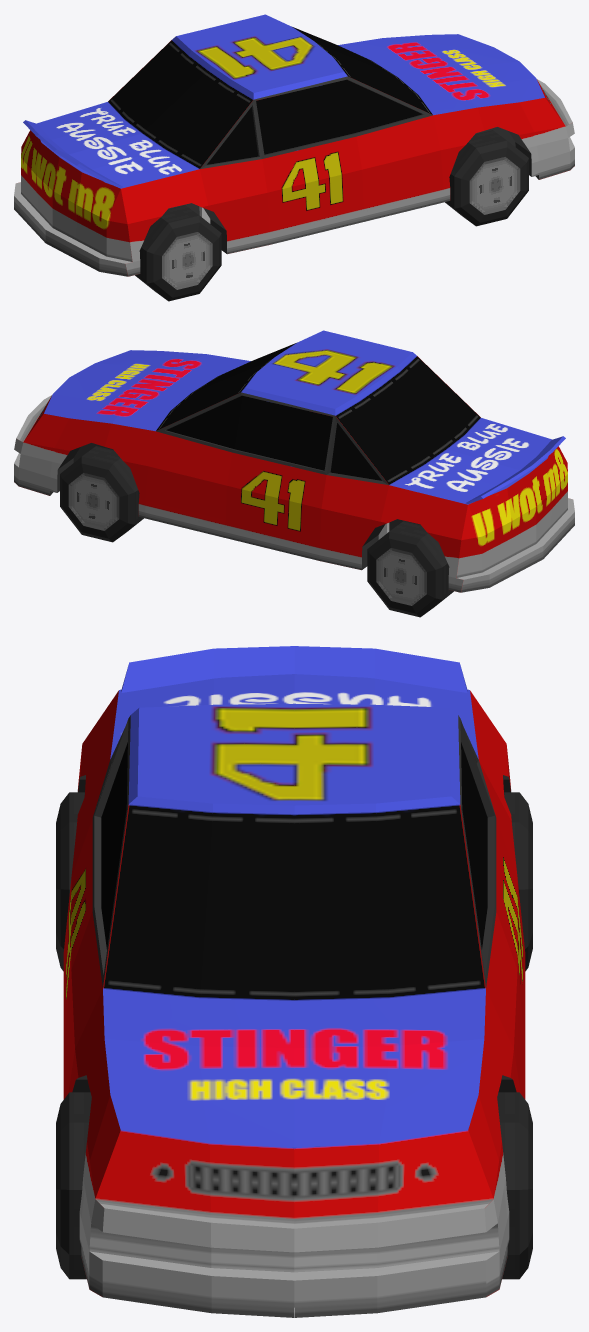
File: STINGER JOINED.fbx
The picture shows the model from 3 angles, top to bottom: view 1: azimuth 30°, elevation 25°; view 2: azimuth 150°, elevation 25°; view 3: azimuth 270°, elevation 25°; orthographic projection. The views are drawn at different scales.
Parts seen in each view (by area): view 1: wheels.001; view 2: wheels.001; view 3: wheels.001.
Boxes of the visible parts, x1,y1,x2,y2 form: wheels.001: [14, 14, 574, 301]; wheels.001: [14, 330, 574, 617]; wheels.001: [56, 646, 532, 1317].
Size of the model in its own units: 19405 by 6301 by 7974.
